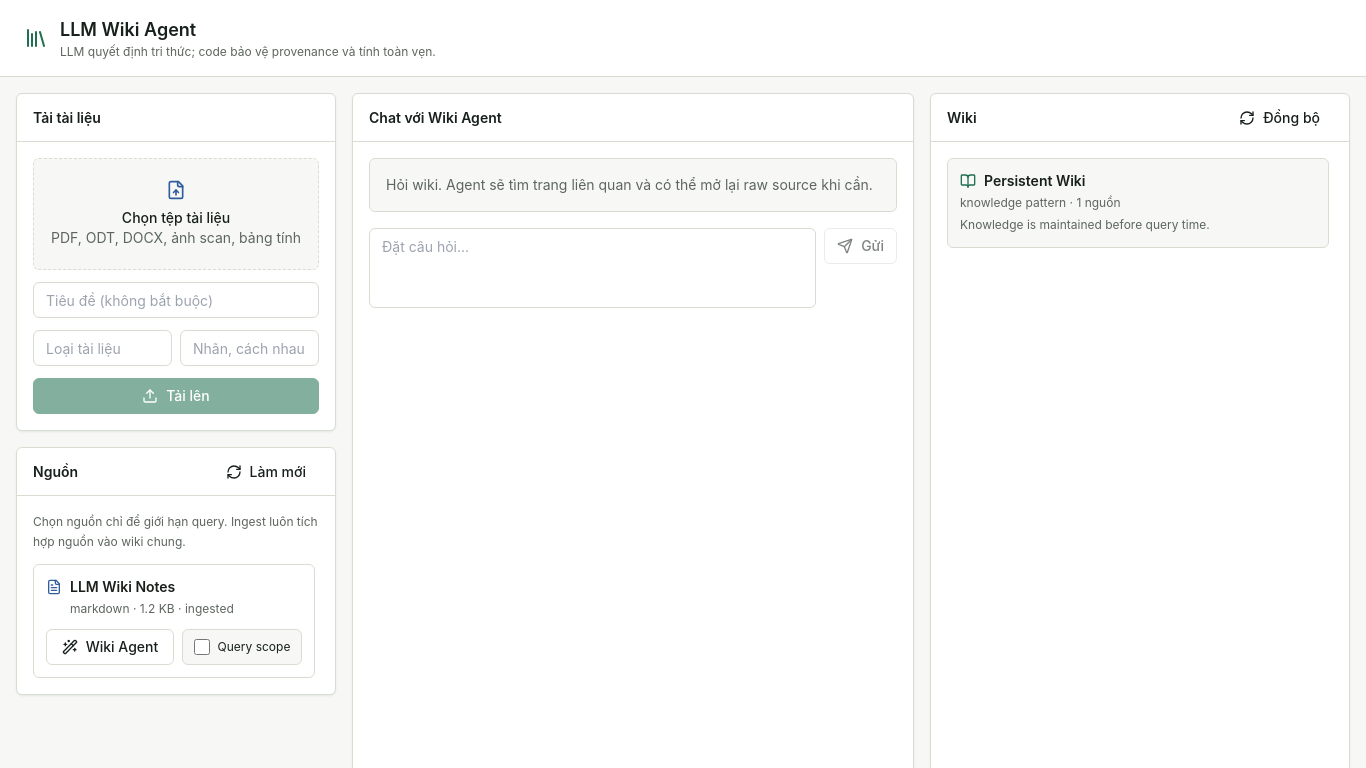
Test: App › submits a grounded question and renders citations
Expected: the text "LLM Wiki Notes" is shown, [70,578,175,595]
Step 1. Type "What does a persistent wiki store?" into the text box with placeholder "Đặt câu hỏi..." → (593, 268), box [369,228,816,308]
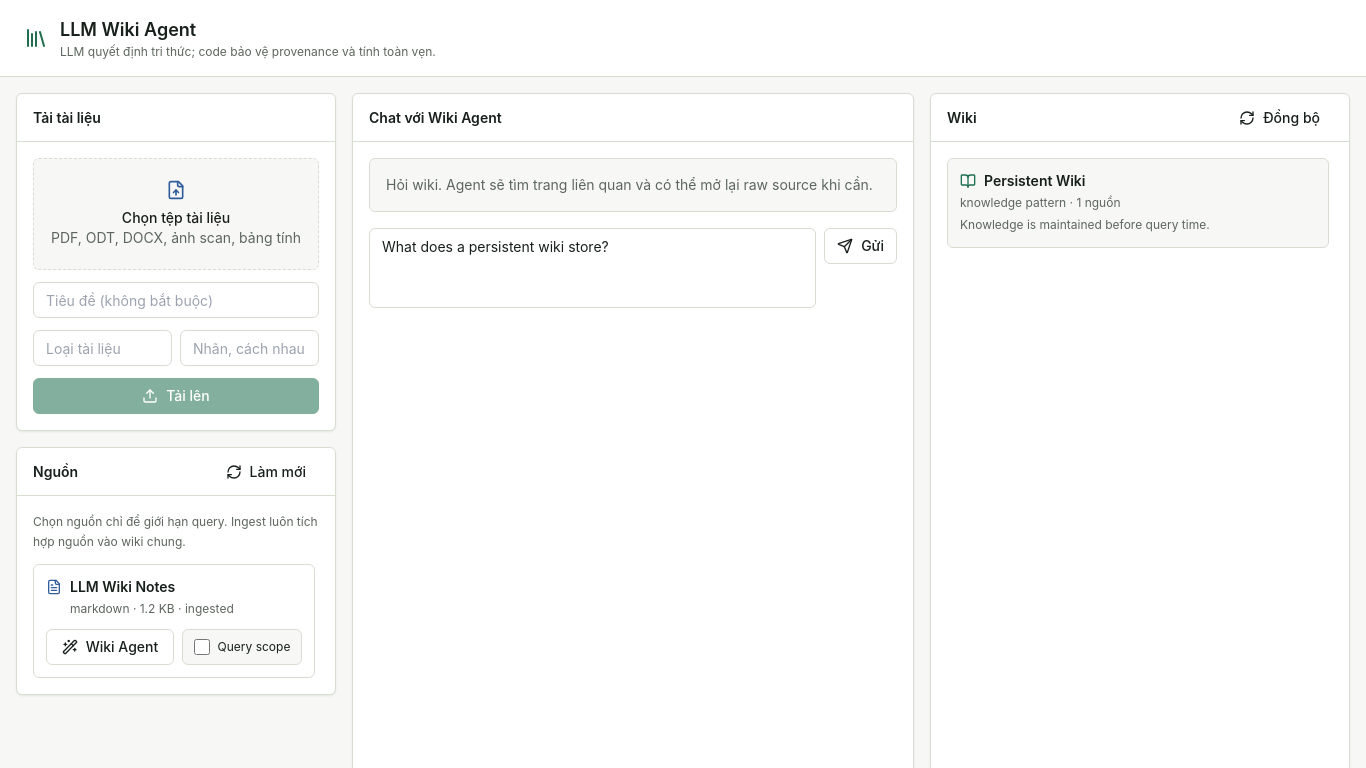
Step 2. Click the button "Gửi" → (861, 246), box [824,228,897,264]
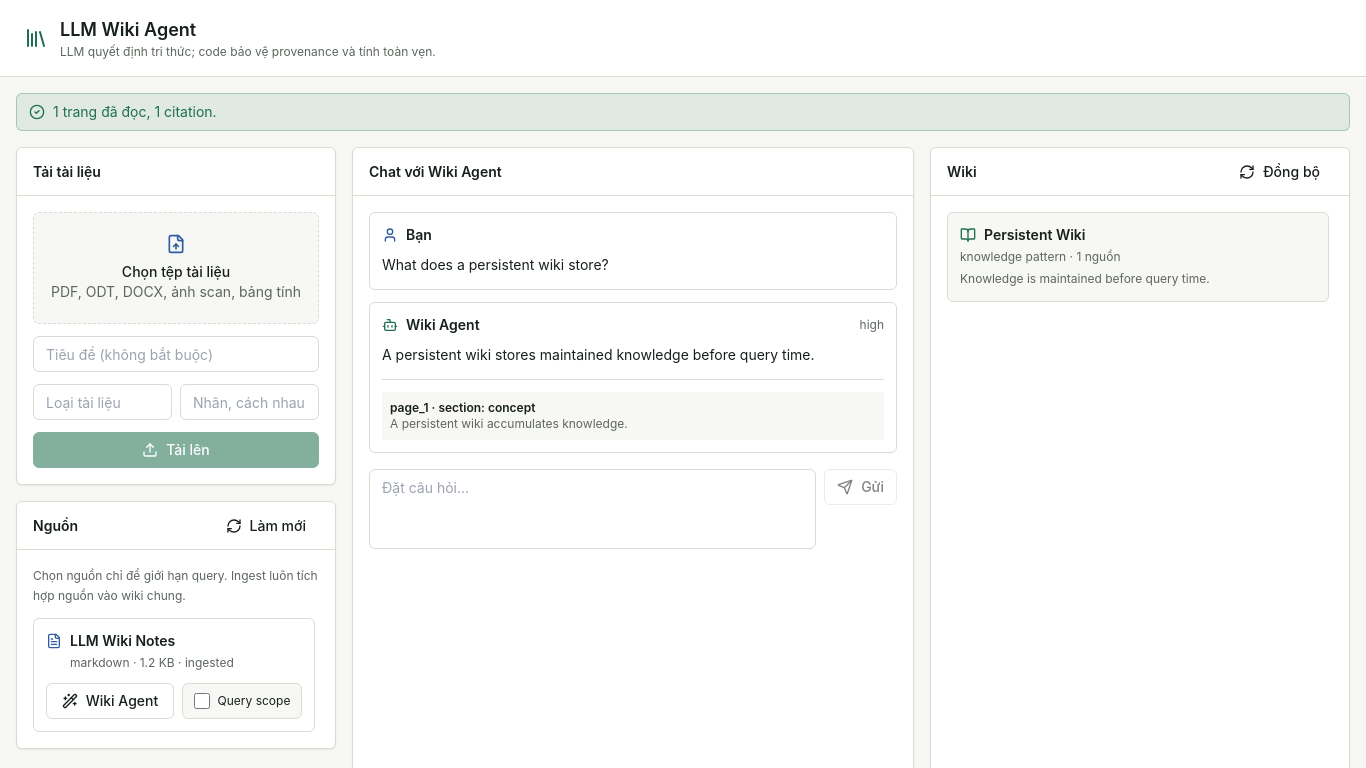
Expected: the text "stores maintained knowledge" is shown, [382,346,815,363]
Expected: the text "page_1 · section: concept" is shown, [390,400,535,415]
